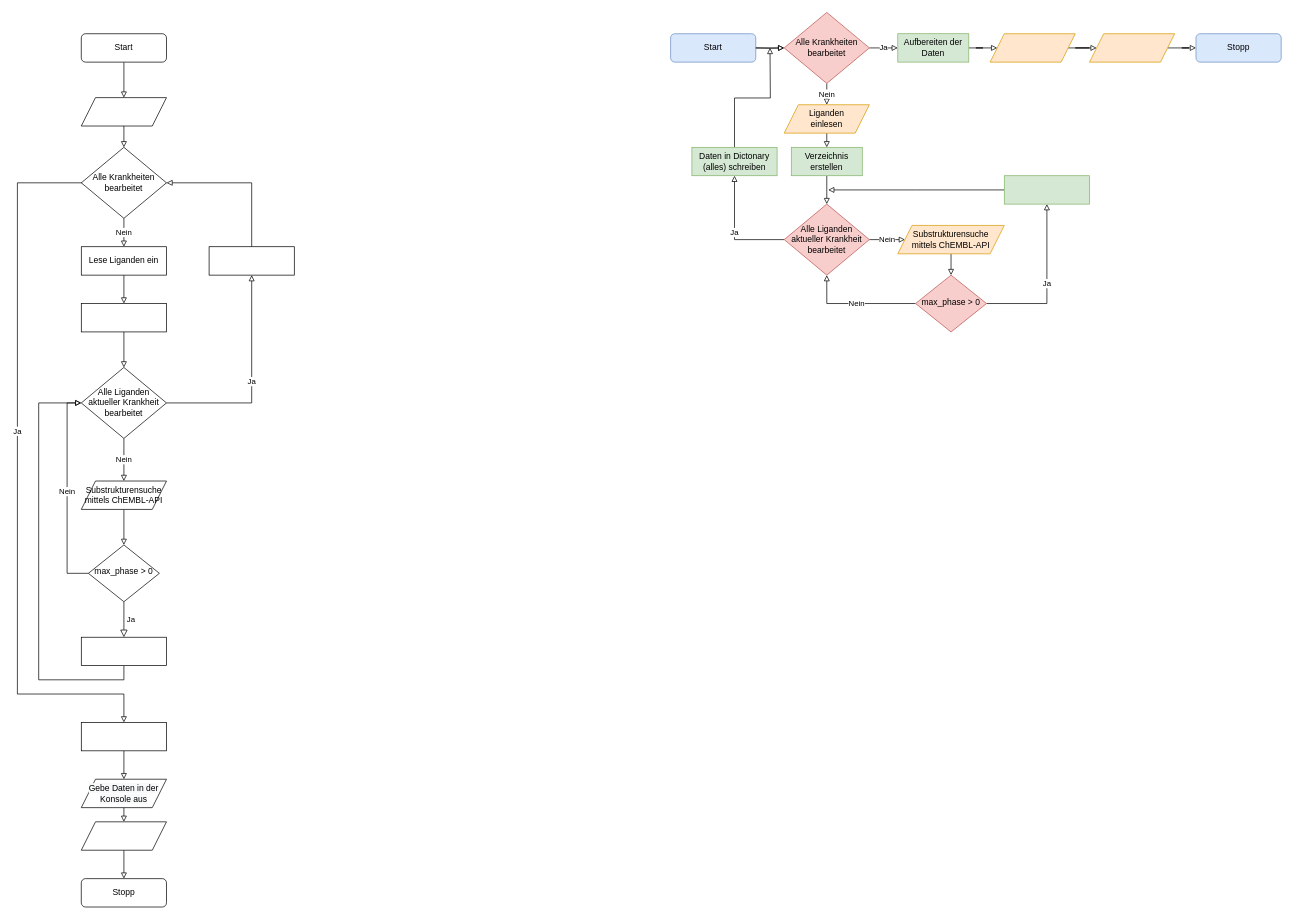
Some shapes in this 1294 by 919 pixel diagram are drawn without their labels. Each missing label, with the centre of its shape:
Ausgangsliganden werden eigelesen: (x=123, y=111)
Bereite Daten auf: (x=123, y=736)
Daten in Dictonary (Krankheit) schreiben: (x=1046, y=189)
Datenausgabe in Konsole: (x=1032, y=47)
Erstelle Verzeichnis: (x=123, y=317)
Schreibe Daten in everything: (x=251, y=260)
Schreibe Daten in found: (x=123, y=651)
Schreibe Daten in output.json: (x=123, y=835)
Speichern in output.json: (x=1132, y=47)
